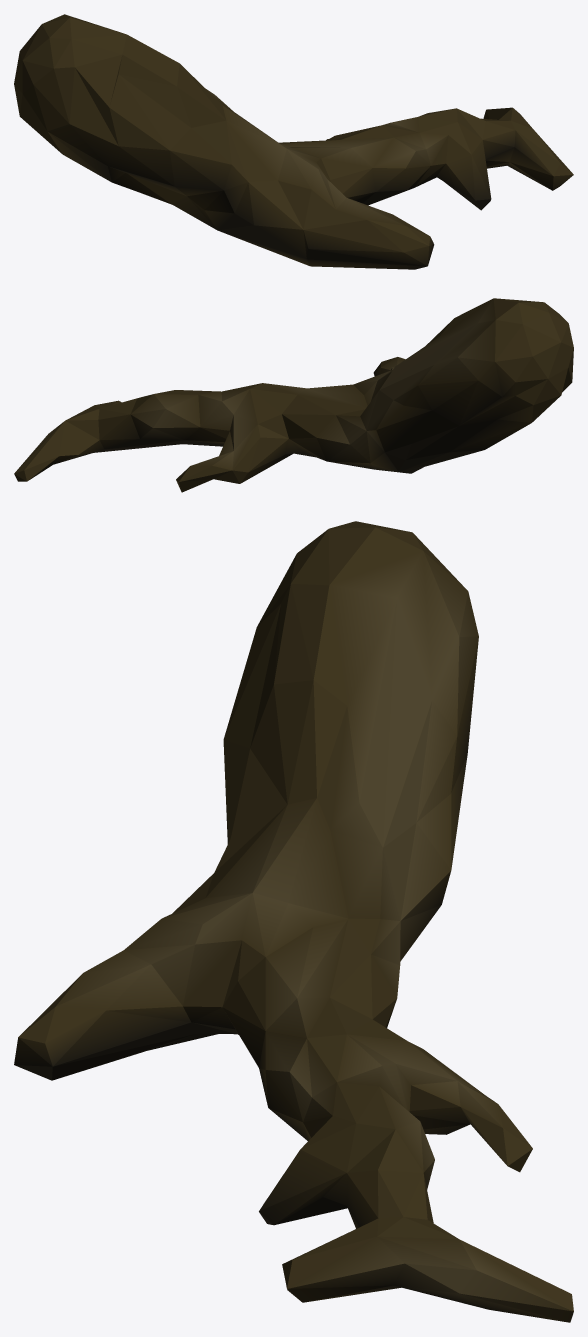
The picture shows the model from 3 angles, top to bottom: view 1: azimuth 30°, elevation 25°; view 2: azimuth 150°, elevation 25°; view 3: azimuth 270°, elevation 25°; orthographic projection. The views are drawn at different scales.
Visible parts, largest first — view 1: root2; view 2: root2; view 3: root2.
Part boxes in pixels (<box>): root2: <box>14,14,573,269</box>; root2: <box>14,298,573,492</box>; root2: <box>14,521,573,1322</box>.
Size of the model in its own units: 3953 by 1884 by 2260.
